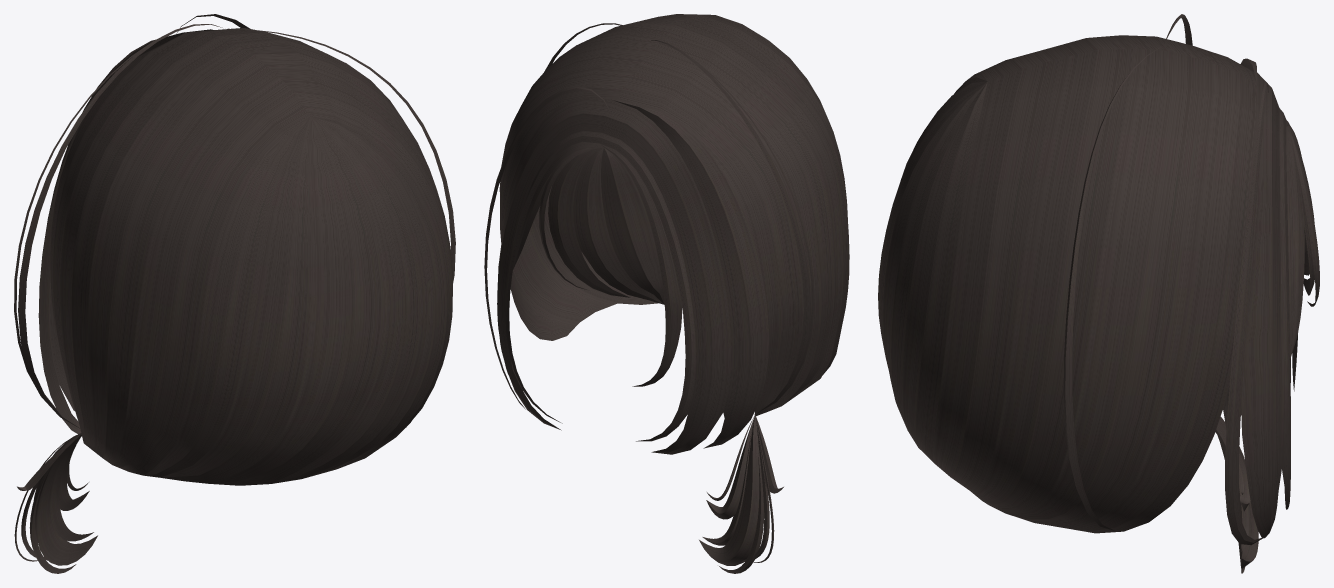
The model's file is 17-cutesy-bob-with-adorable-pigtail-in-brown-118937471732434.glb.
3 renders of one model, left to right at view 1: azimuth 30°, elevation 25°; view 2: azimuth 150°, elevation 25°; view 3: azimuth 270°, elevation 25°, orthographic. The views are drawn at different scales.
Parts seen in each view (by area): view 1: cutesy-bob-with-adorable-pigtail-in-brown; view 2: cutesy-bob-with-adorable-pigtail-in-brown; view 3: cutesy-bob-with-adorable-pigtail-in-brown.
Part boxes in pixels (box(x1,y1,x2,y2)): cutesy-bob-with-adorable-pigtail-in-brown: box(14, 14, 455, 573); cutesy-bob-with-adorable-pigtail-in-brown: box(484, 14, 849, 573); cutesy-bob-with-adorable-pigtail-in-brown: box(878, 14, 1319, 573).
Bounding box in the file's own units: 1.61 × 2.19 × 1.46.
1 material, 1 textured.
